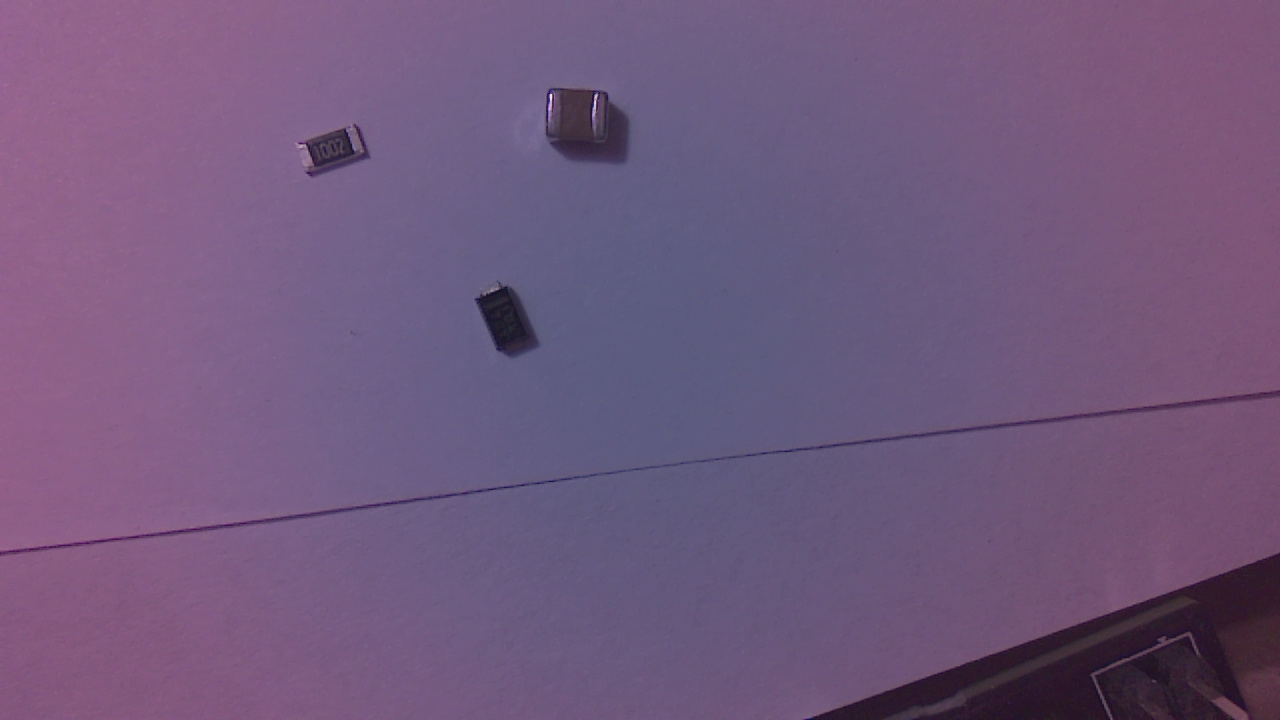Condensator: (546, 91, 618, 160)
Diode: (480, 286, 538, 358)
Resistor: (299, 126, 374, 181)
